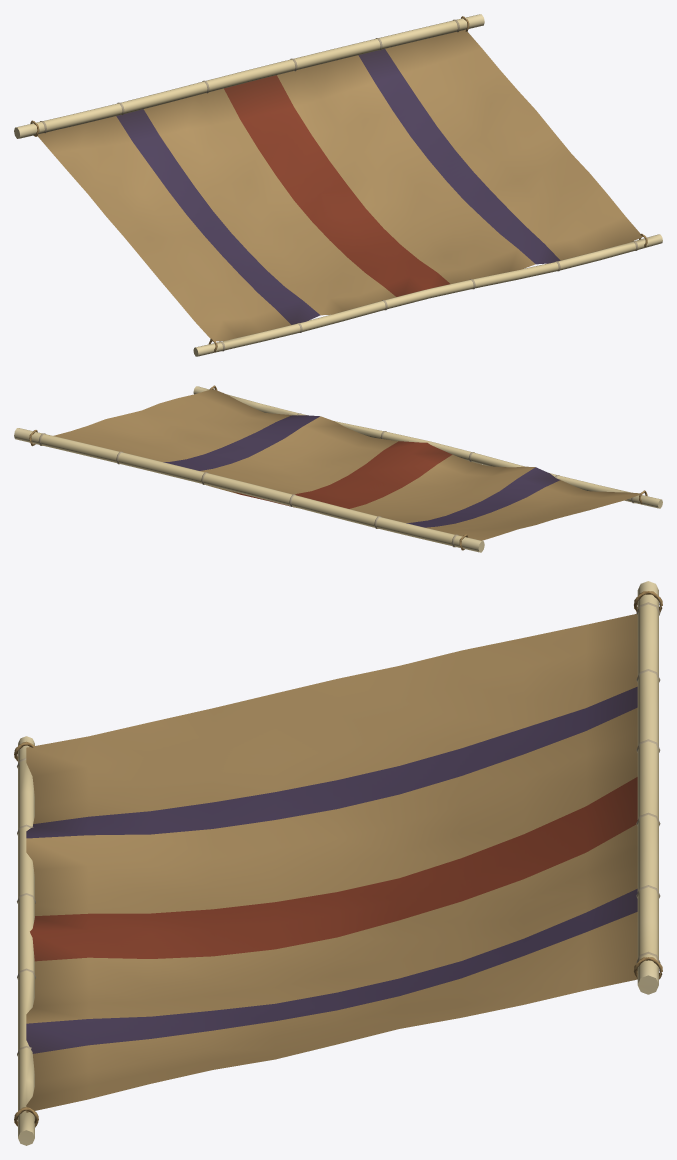
The model's file is awning.ef2ab932.glb.
3 views of the same model, one above another, from view 1: azimuth 30°, elevation 25°; view 2: azimuth 150°, elevation 25°; view 3: azimuth 270°, elevation 25° (orthographic). The views are drawn at different scales.
Visible parts, largest first — view 1: awning; view 2: awning; view 3: awning.
Part boxes in pixels (x1,y1,x2,y2): awning: (14,14,662,356); awning: (14,385,662,552); awning: (14,581,662,1145).
Size of the model in its own units: 2.59 by 0.5513 by 1.8.
